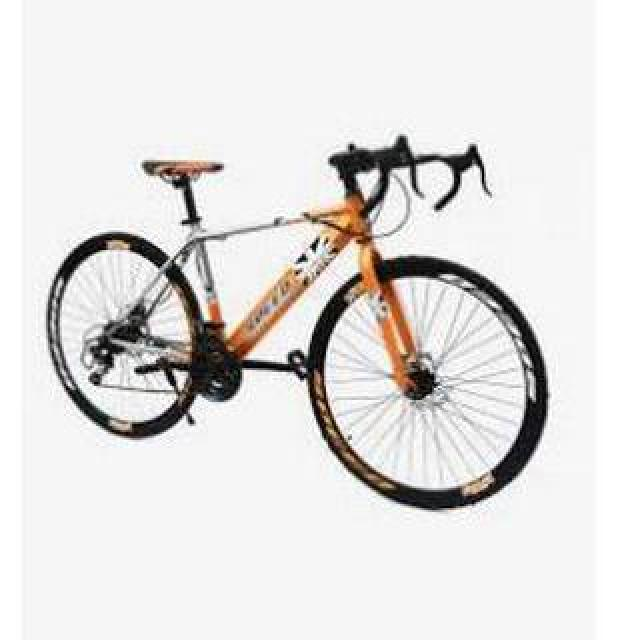Person: (45, 132, 551, 516)
